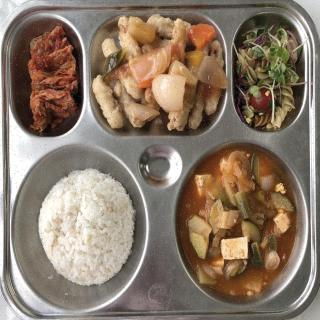Nasi: (34, 167, 141, 296)
